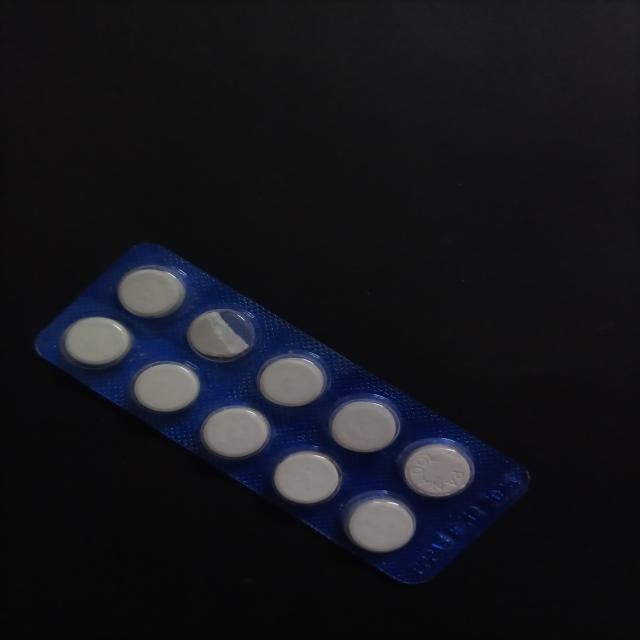defect: (183, 304, 265, 364)
